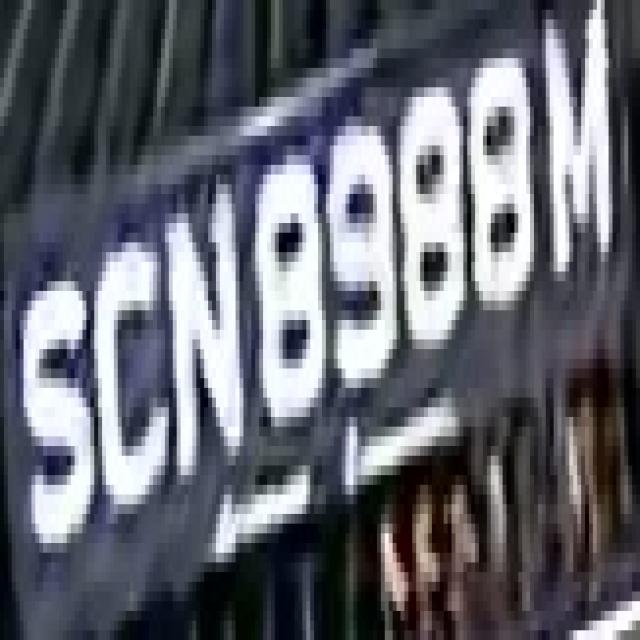8: (235, 126, 334, 446), (393, 78, 471, 378), (463, 29, 546, 310)
9: (322, 78, 393, 417)
C: (90, 213, 173, 553)
M: (534, 58, 613, 291)
N: (165, 184, 255, 495)
S: (12, 252, 94, 601)
